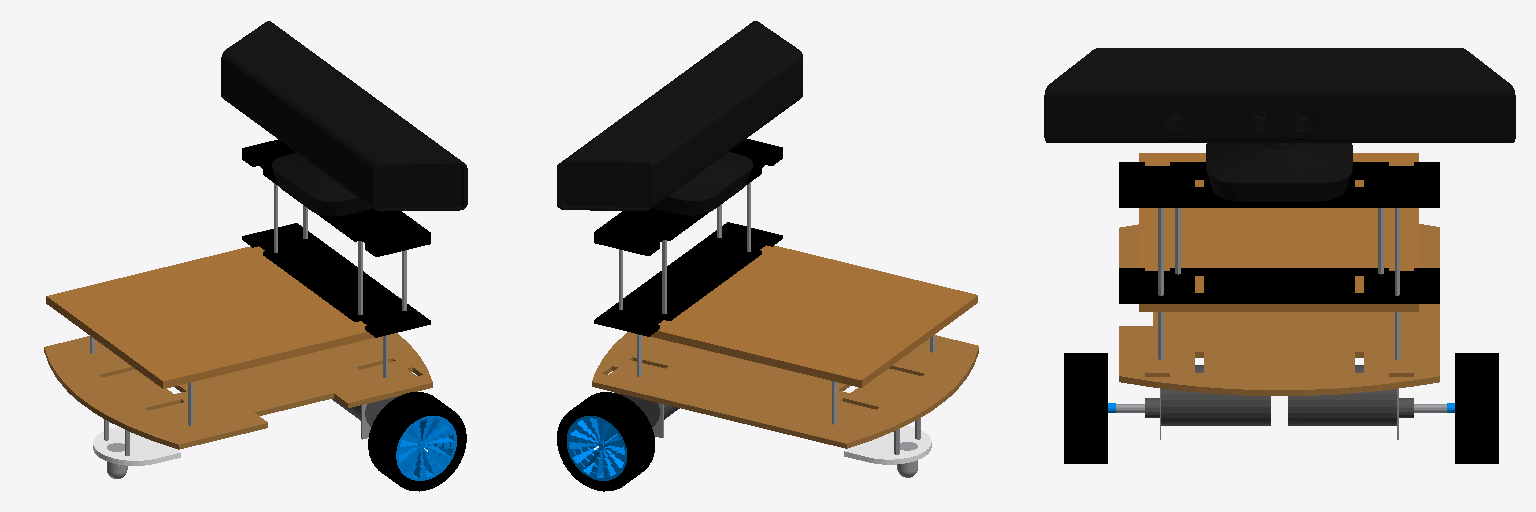
URDF robot description (robotr_description):
<?xml version="1.0" encoding="utf-8"?>
<robot name="robotr_description">

  <material name = "silver">
    <color rgba="0.658823529 0.662745098 0.678431373 1"/>
  </material>
  
  <material name="blue">
    <color rgba="0.0 0.588235294 1 1" />
  </material>
  
  <material name="grey">
    <color rgba="0.1 0.1 0.1 1" />
  </material>

  <material name="black">
    <color rgba="0.0 0.0 0.0 1" />
  </material>

  <material name="wood">
    <color rgba="0.733333333 0.505882353 0.254901961 1" />
  </material>

  <material name="brown">
    <color rgba="0.705882353 0.505882353 0.270588235 1" />
  </material>

  <material name="dark grey">
    <color rgba="0.366666667 0.366666667 0.366666667 1" />
  </material>

  <link name="base_footprint"/>
  <joint name="base_joint" type="fixed">
    <origin xyz="0 0 0.063" rpy="0 0 0" />
    <parent link="base_footprint"/>
    <child link="base_link" />
  </joint>
  
  <link name="base_link">
    <inertial>
      <origin xyz="-0.0803303511068174 0.00200000000059307 -0.00279990982630055" rpy="0 0 0" />
      <mass value="0.203717088165317" />
      <inertia
        ixx="0.000562842365919075"
        ixy="-1.06248777322587E-13"
        ixz="1.73218556106049E-07"
        iyy="0.00153671440021781"
        iyz="1.10182595670909E-16"
        izz="0.000974415279477664" />
    </inertial>
    <visual>
      <origin xyz="0 0 0" rpy="0 0 0" />
      <geometry>
        <mesh filename="package://navigator_description/meshes/base_link.STL" />
      </geometry>
      <material name="brown"/>
    </visual>
    <collision>
      <origin xyz="0 0 0" rpy="0 0 0" />
      <geometry>
        <mesh filename="package://navigator_description/meshes/base_link.STL" />
      </geometry>
    </collision>
  </link>
  <link name="castor_studs">
    <inertial>
      <origin xyz="1.23408929805474E-15 -0.0187500000000007 1.38777878078145E-16" rpy="0 0 0" />
      <mass value="0.00600155604822617" />
      <inertia
        ixx="7.0830864610836E-07"
        ixy="5.67936112148467E-23"
        ixz="6.68165186722167E-25"
        iyy="1.00025934137104E-08"
        iyz="4.89896175218932E-21"
        izz="7.0830864610836E-07" />
    </inertial>
    <visual>
      <origin xyz="0 0 0" rpy="0 0 0" />
      <geometry>
        <mesh filename="package://navigator_description/meshes/castor_studs.STL" />
      </geometry>
      <material name="silver"/>
    </visual>
    <collision>
      <origin xyz="0 0 0" rpy="0 0 0" />
      <geometry>
        <mesh filename="package://navigator_description/meshes/castor_studs.STL" />
      </geometry>
    </collision>
  </link>
  <joint name="castor_studs_joint" type="fixed">
    <origin xyz="-0.18 0 0" rpy="1.5707963267949 0 -1.5707963267949" />
    <parent link="base_link" />
    <child link="castor_studs" />
    <axis xyz="0 0 0" />
  </joint>
  <link name="castor_base">
    <inertial>
      <origin xyz="-1.29650489250412E-15 0.002 -0.0113743448101382" rpy="0 0 0" />
      <mass value="0.0116976101152847" />
      <inertia
        ixx="2.0855361321016E-06"
        ixy="-3.99680288865037E-24"
        ixz="2.03293134804627E-20"
        iyy="5.31282511365259E-06"
        iyz="1.68856393088669E-23"
        izz="3.25848260852509E-06" />
    </inertial>
    <visual>
      <origin xyz="0 0 0" rpy="0 0 0" />
      <geometry>
        <mesh filename="package://navigator_description/meshes/castor_base.STL" />
      </geometry>
      <material name="">
        <color rgba="1 1 1 0.3" />
      </material>
    </visual>
    <collision>
      <origin xyz="0 0 0" rpy="0 0 0" />
      <geometry>
        <mesh filename="package://navigator_description/meshes/castor_base.STL" />
      </geometry>
    </collision>
  </link>
  <joint name="castor_base_joint" type="fixed">
    <origin xyz="0 -0.0415 -0.025" rpy="3.14159265358979 0 3.14159265358979" />
    <parent link="castor_studs" />
    <child link="castor_base" />
    <axis xyz="0 0 0" />
  </joint>
  <link name="castor">
    <inertial>
      <origin xyz="2.77555756156289E-17 0.00567732558139535 -1.25711704189126E-15" rpy="3.1416 0 0" />
      <mass value="0.0292550998388507" />
      <inertia
        ixx="1.56333497253794E-06"
        ixy="-3.23316146394946E-23"
        ixz="2.76990885140595E-24"
        iyy="7.84529930271505E-07"
        iyz="-1.068884300382E-22"
        izz="1.56333497253794E-06" />
    </inertial>
    <visual>
      <origin xyz="0 0 0" rpy="0 0 0" />
      <geometry>
        <mesh filename="package://navigator_description/meshes/castor.STL" />
      </geometry>
      <material name="silver"/>
    </visual>
    <collision>
      <origin xyz="0 0 0" rpy="0 0 0" />
      <geometry>
        <mesh filename="package://navigator_description/meshes/castor.STL" />
      </geometry>
    </collision>
  </link>
  <joint name="castor_joint" type="fixed">
    <origin xyz="0 -0.0125 -0.025" rpy="0 1.5708 0" />
    <parent link="castor_base" />
    <child link="castor" />
    <axis xyz="0 0 0" />
  </joint>
  <link name="l_clamp">
    <inertial>
      <origin xyz="4.46439755636888E-16 0.00634190450325339 0.0108492512203278" rpy="0 0 0" />
      <mass value="0.0113161726562261" />
      <inertia
        ixx="2.68003208965716E-06"
        ixy="-9.23150646109792E-21"
        ixz="4.49571498549235E-21"
        iyy="4.10049166716253E-06"
        iyz="-5.71883700326575E-07"
        izz="2.45690436047926E-06" />
    </inertial>
    <visual>
      <origin xyz="0 0 0" rpy="0 0 0" />
      <geometry>
        <mesh filename="package://navigator_description/meshes/l_clamp.STL" />
      </geometry>
      <material name="silver"/>
    </visual>
    <collision>
      <origin xyz="0 0 0" rpy="0 0 0" />
      <geometry>
        <mesh filename="package://navigator_description/meshes/l_clamp.STL" />
      </geometry>
    </collision>
  </link>
  <joint name="l_clamp_joint" type="fixed">
    <origin xyz="0 0.071 -0.02" rpy="0 0 -3.1416" />
    <parent link="base_link" />
    <child link="l_clamp" />
    <axis xyz="0 0 0" />
  </joint>
  <link name="l_motor">
    <inertial>
      <origin xyz="1.49223508458574E-15 0.0331302521008403 0.000142857142857142" rpy="0 0 0" />
      <mass value="0.524884734191168" />
      <inertia
        ixx="0.000236474771933518"
        ixy="-3.18605575834741E-18"
        ixz="-5.79157981080169E-20"
        iyy="8.43876657673291E-05"
        iyz="-2.76462397510654E-06"
        izz="0.000235848123832493" />
    </inertial>
    <visual>
      <origin xyz="0 0 0" rpy="0 0 0" />
      <geometry>
        <mesh filename="package://navigator_description/meshes/l_motor.STL" />
      </geometry>
      <material name="dark grey"/>
    </visual>
    <collision>
      <origin xyz="0 0 0" rpy="0 0 0" />
      <geometry>
        <mesh filename="package://navigator_description/meshes/l_motor.STL" />
      </geometry>
    </collision>
  </link>
  <joint name="l_motor_joint" type="fixed">
    <origin xyz="0 0.066 0" rpy="3.14159265358979 0 0" />
    <parent link="l_clamp" />
    <child link="l_motor" />
    <axis xyz="0 0 0" />
  </joint>
  <link name="l_shaft">
    <inertial>
      <origin xyz="6.21571815861636E-16 0.011 3.46944695195361E-18" rpy="0 0 0" />
      <mass value="0.00117927534234127" />
      <inertia
        ixx="4.94067231968394E-08"
        ixy="-3.19271442540666E-22"
        ixz="-3.98019225194449E-39"
        iyy="3.68523544481647E-09"
        iyz="-4.23878906834201E-25"
        izz="4.94067231968394E-08" />
    </inertial>
    <visual>
      <origin xyz="0 0 0" rpy="0 0 0" />
      <geometry>
        <mesh filename="package://navigator_description/meshes/l_shaft.STL" />
      </geometry>
      <material name="silver"/>
    </visual>
    <collision>
      <origin xyz="0 0 0" rpy="0 0 0" />
      <geometry>
        <mesh filename="package://navigator_description/meshes/l_shaft.STL" />
      </geometry>
    </collision>
  </link>
  <joint name="l_shaft_joint" type="fixed">
    <origin xyz="0 0.075 0.00849999999999974" rpy="0 0 0" />
    <parent link="l_motor" />
    <child link="l_shaft" />
    <axis xyz="0 0 0" />
  </joint>
  <link name="l_rim">
    <inertial>
      <origin xyz="8.02221423384087E-16 0.0122162154619034 5.88345364891524E-06" rpy="0 0 0" />
      <mass value="0.0281408161945305" />
      <inertia
        ixx="6.48363892722368E-06"
        ixy="2.38924530570378E-20"
        ixz="1.12234318729371E-20"
        iyy="1.00188552236876E-05"
        iyz="-1.61985412368655E-09"
        izz="6.48372715588808E-06" />
    </inertial>
    <visual>
      <origin xyz="0 0 0" rpy="0 0 0" />
      <geometry>
        <mesh filename="package://navigator_description/meshes/l_rim.STL" />
      </geometry>
      <material name="blue"/>
    </visual>
    <collision>
      <origin xyz="0 0 0" rpy="0 0 0" />
      <geometry>
        <mesh filename="package://navigator_description/meshes/l_rim.STL" />
      </geometry>
    </collision>
  </link>
  <joint name="l_rim_joint" type="fixed">
    <origin xyz="0 0.0242514397792677 0" rpy="0 0 0" />
    <parent link="l_shaft" />
    <child link="l_rim" />
    <axis xyz="0 0 0" />
  </joint>
  <link name="l_wheel">
    <inertial>
      <origin xyz="8.18762427883605E-16 0.013 1.6306400674182E-16" rpy="0 0 0" />
      <mass value="0.0439338814375541" />
      <inertia
        ixx="2.13006101836408E-05"
        ixy="1.14176510865926E-19"
        ixz="1.58691157838805E-33"
        iyy="3.76513363919839E-05"
        iyz="2.26252082477143E-19"
        izz="2.13006101836408E-05" />
    </inertial>
    <visual>
      <origin xyz="0 0 0" rpy="0 0 0" />
      <geometry>
        <mesh filename="package://navigator_description/meshes/l_wheel.STL" />
      </geometry>
      <material name="black"/>
    </visual>
    <collision>
      <origin xyz="0 0 0" rpy="0 0 0" />
      <geometry>
        <mesh filename="package://navigator_description/meshes/l_wheel.STL" />
      </geometry>
    </collision>
  </link>
  <joint name="l_wheel_joint" type="fixed">
    <origin xyz="0 0 0" rpy="0 0 0" />
    <parent link="l_rim" />
    <child link="l_wheel" />
    <axis xyz="0 0 0" />
  </joint>
  <link name="r_clamp">
    <inertial>
      <origin xyz="7.73858964492141E-16 0.00634190450325341 0.0108492512203277" rpy="0 0 0" />
      <mass value="0.011316172656226" />
      <inertia
        ixx="2.68003208965717E-06"
        ixy="5.75150324310157E-22"
        ixz="-4.67965262388268E-21"
        iyy="4.10049166716254E-06"
        iyz="-5.71883700326575E-07"
        izz="2.45690436047926E-06" />
    </inertial>
    <visual>
      <origin xyz="0 0 0" rpy="0 0 0" />
      <geometry>
        <mesh filename="package://navigator_description/meshes/r_clamp.STL" />
      </geometry>
      <material name="silver"/>
    </visual>
    <collision>
      <origin xyz="0 0 0" rpy="0 0 0" />
      <geometry>
        <mesh filename="package://navigator_description/meshes/r_clamp.STL" />
      </geometry>
    </collision>
  </link>
  <joint name="r_clamp_joint" type="fixed">
    <origin xyz="0 -0.071 -0.02" rpy="0 0 0" />
    <parent link="base_link" />
    <child link="r_clamp" />
    <axis xyz="0 0 0" />
  </joint>
  <link name="r_motor">
    <inertial>
      <origin xyz="0.0099999999999995 0.0431302521008403 0.000142857142857177" rpy="0 0 0" />
      <mass value="0.524884734191169" />
      <inertia
        ixx="0.000236474771933518"
        ixy="-1.0427133200798E-18"
        ixz="-1.49294057345111E-20"
        iyy="8.43876657673291E-05"
        iyz="-2.76462397510655E-06"
        izz="0.000235848123832493" />
    </inertial>
    <visual>
      <origin xyz="0 0 0" rpy="0 0 0" />
      <geometry>
        <mesh filename="package://navigator_description/meshes/r_motor.STL" />
      </geometry>
      <material name="dark grey"/>
    </visual>
    <collision>
      <origin xyz="0 0 0" rpy="0 0 0" />
      <geometry>
        <mesh filename="package://navigator_description/meshes/r_motor.STL" />
      </geometry>
    </collision>
  </link>
  <joint name="r_motor_joint" type="fixed">
    <origin xyz="-0.01 0.076 0" rpy="3.14159265358979 0 0" />
    <parent link="r_clamp" />
    <child link="r_motor" />
    <axis xyz="0 0 0" />
  </joint>
  <link name="r_shaft">
    <inertial>
      <origin xyz="-6.3544960366945E-16 0.011 0" rpy="0 0 0" />
      <mass value="0.00117927534234127" />
      <inertia
        ixx="4.94067231968394E-08"
        ixy="3.19271442540666E-22"
        ixz="-6.89811526679502E-39"
        iyy="3.68523544481647E-09"
        iyz="4.23878906834262E-25"
        izz="4.94067231968394E-08" />
    </inertial>
    <visual>
      <origin xyz="0 0 0" rpy="0 0 0" />
      <geometry>
        <mesh filename="package://navigator_description/meshes/r_shaft.STL" />
      </geometry>
      <material name="silver"/>
    </visual>
    <collision>
      <origin xyz="0 0 0" rpy="0 0 0" />
      <geometry>
        <mesh filename="package://navigator_description/meshes/r_shaft.STL" />
      </geometry>
    </collision>
  </link>
  <joint name="r_shaft_joint" type="fixed">
    <origin xyz="0.01 0.085 0.00850000000000029" rpy="3.14159265358979 0 -3.14159265358979" />
    <parent link="r_motor" />
    <child link="r_shaft" />
    <axis xyz="0 0 0" />
  </joint>
  <link name="r_rim">
    <inertial>
      <origin xyz="-7.91701425760462E-16 0.0122162154619034 5.88345364891177E-06" rpy="0 0 0" />
      <mass value="0.0281408161945305" />
      <inertia
        ixx="6.48363892722369E-06"
        ixy="-2.51094305737917E-20"
        ixz="1.08820439564639E-20"
        iyy="1.00188552236876E-05"
        iyz="-1.61985412368637E-09"
        izz="6.48372715588809E-06" />
    </inertial>
    <visual>
      <origin xyz="0 0 0" rpy="0 0 0" />
      <geometry>
        <mesh filename="package://navigator_description/meshes/r_rim.STL" />
      </geometry>
      <material name="blue"/>
    </visual>
    <collision>
      <origin xyz="0 0 0" rpy="0 0 0" />
      <geometry>
        <mesh filename="package://navigator_description/meshes/r_rim.STL" />
      </geometry>
    </collision>
  </link>
  <joint name="r_rim_joint" type="fixed">
    <origin xyz="0 0.0218095636751039 0" rpy="0 0 0" />
    <parent link="r_shaft" />
    <child link="r_rim" />
    <axis xyz="0 0 0" />
  </joint>
  <link name="r_wheel">
    <inertial>
      <origin xyz="-8.01710898184696E-16 0.013 1.76941794549634E-16" rpy="0 0 0" />
      <mass value="0.0439338814375541" />
      <inertia
        ixx="2.13006101836408E-05"
        ixy="-1.14176510865926E-19"
        ixz="-1.60133259501566E-33"
        iyy="3.76513363919839E-05"
        iyz="2.28336282505836E-19"
        izz="2.13006101836408E-05" />
    </inertial>
    <visual>
      <origin xyz="0 0 0" rpy="0 0 0" />
      <geometry>
        <mesh filename="package://navigator_description/meshes/r_wheel.STL" />
      </geometry>
      <material name="black"/>
    </visual>
    <collision>
      <origin xyz="0 0 0" rpy="0 0 0" />
      <geometry>
        <mesh filename="package://navigator_description/meshes/r_wheel.STL" />
      </geometry>
    </collision>
  </link>
  <joint name="r_wheel_joint" type="fixed">
    <origin xyz="0 0 0" rpy="0 0 0" />
    <parent link="r_rim" />
    <child link="r_wheel" />
    <axis xyz="0 0 0" />
  </joint>
  <link name="4cm_studs">
    <inertial>
      <origin xyz="1.38777878078145E-17 0.02 -4.73883287399247E-16" rpy="0 0 0" />
      <mass value="0.0128033195695494" />
      <inertia
        ixx="1.71777870891455E-06"
        ixy="-8.61135230571164E-23"
        ixz="-1.48831518156455E-23"
        iyy="2.13388659492473E-08"
        iyz="-2.11474623538136E-22"
        izz="1.71777870891454E-06" />
    </inertial>
    <visual>
      <origin xyz="0 0 0" rpy="0 0 0" />
      <geometry>
        <mesh filename="package://navigator_description/meshes/4cm_studs.STL" />
      </geometry>
      <material name="silver"/>
    </visual>
    <collision>
      <origin xyz="0 0 0" rpy="0 0 0" />
      <geometry>
        <mesh filename="package://navigator_description/meshes/4cm_studs.STL" />
      </geometry>
    </collision>
  </link>
  <joint name="4cm_studs_joint" type="fixed">
    <origin xyz="-0.08 0 0.004" rpy="1.5707963267949 0 3.14159265358979" />
    <parent link="base_link" />
    <child link="4cm_studs" />
    <axis xyz="0 0 0" />
  </joint>
  <link name="upper_plate">
    <inertial>
      <origin xyz="0.00500000000000005 0.003 -5.69419057527234E-16" rpy="0 0 0" />
      <mass value="0.0711144" />
      <inertia
        ixx="0.0001635157104"
        ixy="-8.81875358350719E-22"
        ixz="6.63833932641862E-19"
        iyy="0.0004246477872"
        iyz="1.95852727215511E-20"
        izz="0.0002615587632" />
    </inertial>
    <visual>
      <origin xyz="0 0 0" rpy="0 0 0" />
      <geometry>
        <mesh filename="package://navigator_description/meshes/upper_plate.STL" />
      </geometry>
      <material name="wood"/>
    </visual>
    <collision>
      <origin xyz="0 0 0" rpy="0 0 0" />
      <geometry>
        <mesh filename="package://navigator_description/meshes/upper_plate.STL" />
      </geometry>
    </collision>
  </link>
  <joint name="upper_plate_joint" type="fixed">
    <origin xyz="0 0.04 0" rpy="0 0 0" />
    <parent link="4cm_studs" />
    <child link="upper_plate" />
    <axis xyz="0 0 0" />
  </joint>
  <link name="black_plate_small">
    <inertial>
      <origin xyz="0.000462962962962967 0.00150000000000001 7.05793464637922E-17" rpy="0 0 0" />
      <mass value="0.031833" />
      <inertia
        ixx="9.53361997500001E-05"
        ixy="-3.00024246406317E-23"
        ixz="4.0679143692461E-21"
        iyy="0.000100642933333333"
        iyz="-1.88257499140994E-21"
        izz="5.35448308333334E-06" />
    </inertial>
    <visual>
      <origin xyz="0 0 0" rpy="0 0 0" />
      <geometry>
        <mesh filename="package://navigator_description/meshes/black_plate_small.STL" />
      </geometry>
      <material name="black"/>
    </visual>
    <collision>
      <origin xyz="0 0 0" rpy="0 0 0" />
      <geometry>
        <mesh filename="package://navigator_description/meshes/black_plate_small.STL" />
      </geometry>
    </collision>
  </link>
  <joint name="black_plate_small_joint" type="fixed">
    <origin xyz="-0.08 0.006 0" rpy="3.14159265358979 0 3.14159265358979" />
    <parent link="upper_plate" />
    <child link="black_plate_small" />
    <axis xyz="0 0 0" />
  </joint>
  <link name="6cm_studs">
    <inertial>
      <origin xyz="0.0799999999999998 0.029 5.66140327106846E-16" rpy="0 0 0" />
      <mass value="0.0192049793543236" />
      <inertia
        ixx="5.77749795575901E-06"
        ixy="1.14874970004442E-23"
        ixz="2.7818083955487E-25"
        iyy="3.20082989238674E-08"
        iyz="-7.03943736991413E-24"
        izz="5.77749795575901E-06" />
    </inertial>
    <visual>
      <origin xyz="0 0 0" rpy="0 0 0" />
      <geometry>
        <mesh filename="package://navigator_description/meshes/6cm_studs.STL" />
      </geometry>
      <material name="silver"/>
    </visual>
    <collision>
      <origin xyz="0 0 0" rpy="0 0 0" />
      <geometry>
        <mesh filename="package://navigator_description/meshes/6cm_studs.STL" />
      </geometry>
    </collision>
  </link>
  <joint name="6cm_studs_joint" type="fixed">
    <origin xyz="-0.08 0.004 0" rpy="0 0 0" />
    <parent link="black_plate_small" />
    <child link="6cm_studs" />
    <axis xyz="0 0 0" />
  </joint>
  <link name="black_plate_big">
    <inertial>
      <origin xyz="0.000462962962962966 0.00449999999999999 5.57661188960559E-17" rpy="0 0 0" />
      <mass value="0.0954989999999999" />
      <inertia
        ixx="0.00028658159325"
        ixy="-5.13810130659092E-23"
        ixz="1.86370302225981E-21"
        iyy="0.0003019288"
        iyz="-3.30990938509318E-22"
        izz="1.663644325E-05" />
    </inertial>
    <visual>
      <origin xyz="0 0 0" rpy="0 0 0" />
      <geometry>
        <mesh filename="package://navigator_description/meshes/black_plate_big.STL" />
      </geometry>
      <material name="black"/>
    </visual>
    <collision>
      <origin xyz="0 0 0" rpy="0 0 0" />
      <geometry>
        <mesh filename="package://navigator_description/meshes/black_plate_big.STL" />
      </geometry>
    </collision>
  </link>
  <joint name="black_plate_big_joint" type="fixed">
    <origin xyz="0.08 0.059 0" rpy="0 0 0" />
    <parent link="6cm_studs" />
    <child link="black_plate_big" />
    <axis xyz="0 0 0" />
  </joint>
  <link name="kinect">
    <inertial>
      <origin xyz="0.00122183168080987 0.0321387211137403 0.000160728341865204" rpy="0 0 0" />
      <mass value="0.645269768162058" />
      <inertia
        ixx="0.00284310577525538"
        ixy="-1.54624658814483E-07"
        ixz="2.56831959224755E-06"
        iyy="0.00296397070653704"
        iyz="-1.09854801503413E-08"
        izz="0.000263778628039503" />
    </inertial>
    <visual>
      <origin xyz="0 0 0" rpy="0 0 0" />
      <geometry>
        <mesh filename="package://navigator_description/meshes/kinect.STL" />
      </geometry>
      <material name="grey"/>
    </visual>
    <collision>
      <origin xyz="0 0 0" rpy="0 0 0" />
      <geometry>
        <mesh filename="package://navigator_description/meshes/kinect.STL" />
      </geometry>
    </collision>
  </link>
  <joint name="kinect_base" type="fixed">
    <origin xyz="0 0.023 0" rpy="3.14159265358979 0 3.14159265358979" />
    <parent link="black_plate_big" />
    <child link="kinect" />
    <axis xyz="0 0 0" />
  </joint>

  <link name="camera_link"/>
  <link name="camera_depth_frame"/>
  <link name="camera_rgb_frame"/>
  <link name="camera_depth_optical_frame"/>
  <link name="camera_rgb_optical_frame"/>
  
  <joint name="kinect_camera_joint" type="fixed">
      <origin xyz="0 0.023 0" rpy="0 0 0" />
      <parent link="kinect"/>
      <child link="camera_link" />
  </joint>
  
  <joint name="camera_joint_1" type="fixed">
      <origin xyz="0 0.023 0" rpy="0 0 0" />
      <parent link="camera_link"/>
      <child link="camera_depth_frame" />
  </joint>
  
  <joint name="camera_joint_2" type="fixed">
      <origin xyz="0 0.023 0" rpy="0 0 0" />
      <parent link="camera_link"/>
      <child link="camera_rgb_frame" />
  </joint>
  
  <joint name="camera_joint_3" type="fixed">
      <origin xyz="0 0.023 0" rpy="0 0 0" />
      <parent link="camera_depth_frame"/>
      <child link="camera_depth_optical_frame" />
  </joint>
  
  <joint name="camera_joint_4" type="fixed">
      <origin xyz="0 0.023 0" rpy="0 0 0" />
      <parent link="camera_rgb_frame"/>
      <child link="camera_rgb_optical_frame" />
  </joint>

</robot>

--- Facts derived from the render (not from the file) ---
The picture shows the robot from 3 angles, left to right: view 1: azimuth 30°, elevation 25°; view 2: azimuth 150°, elevation 25°; view 3: azimuth 270°, elevation 25°; orthographic projection.
Robot: robotr_description — 26 links, 25 joints (25 fixed); root link base_footprint; default pose: all joints at 0.
Links seen in each view (by area): view 1: kinect, upper_plate, base_link, black_plate_small, r_wheel, black_plate_big, r_rim, castor_base, 6cm_studs; view 2: kinect, upper_plate, base_link, black_plate_small, l_wheel, black_plate_big, l_rim, castor_base, 6cm_studs, l_motor; view 3: kinect, base_link, upper_plate, black_plate_small, black_plate_big, l_wheel, r_wheel, r_motor, l_motor, 6cm_studs, 4cm_studs.
Boxes of the visible links, x1,y1,x2,y2 form: kinect: (221,21,467,215); upper_plate: (46,246,374,388); base_link: (44,333,432,449); black_plate_small: (242,223,430,337); r_wheel: (368,392,466,491); black_plate_big: (242,139,430,256); r_rim: (396,416,456,480); castor_base: (93,427,180,465); 6cm_studs: (274,183,406,314); kinect: (557,21,802,215); upper_plate: (650,245,977,387); base_link: (592,332,978,448); black_plate_small: (594,222,782,336); l_wheel: (557,392,654,491); black_plate_big: (594,139,782,255); l_rim: (567,416,626,480); castor_base: (844,425,931,464); 6cm_studs: (619,182,750,313); l_motor: (620,394,679,426); kinect: (1044,48,1515,201); base_link: (1119,224,1439,395); upper_plate: (1139,153,1418,311); black_plate_small: (1119,268,1439,303); black_plate_big: (1119,162,1439,207); l_wheel: (1455,353,1498,463); r_wheel: (1064,353,1107,463); r_motor: (1145,365,1270,425); l_motor: (1288,365,1413,425); 6cm_studs: (1158,208,1399,295); 4cm_studs: (1158,312,1399,359).
Size in the robot's own frame: 0.2497 by 0.2793 by 0.2555 metres.
Meshes: 20 distinct files referenced, 20 mesh visuals loaded (20 binary STL).